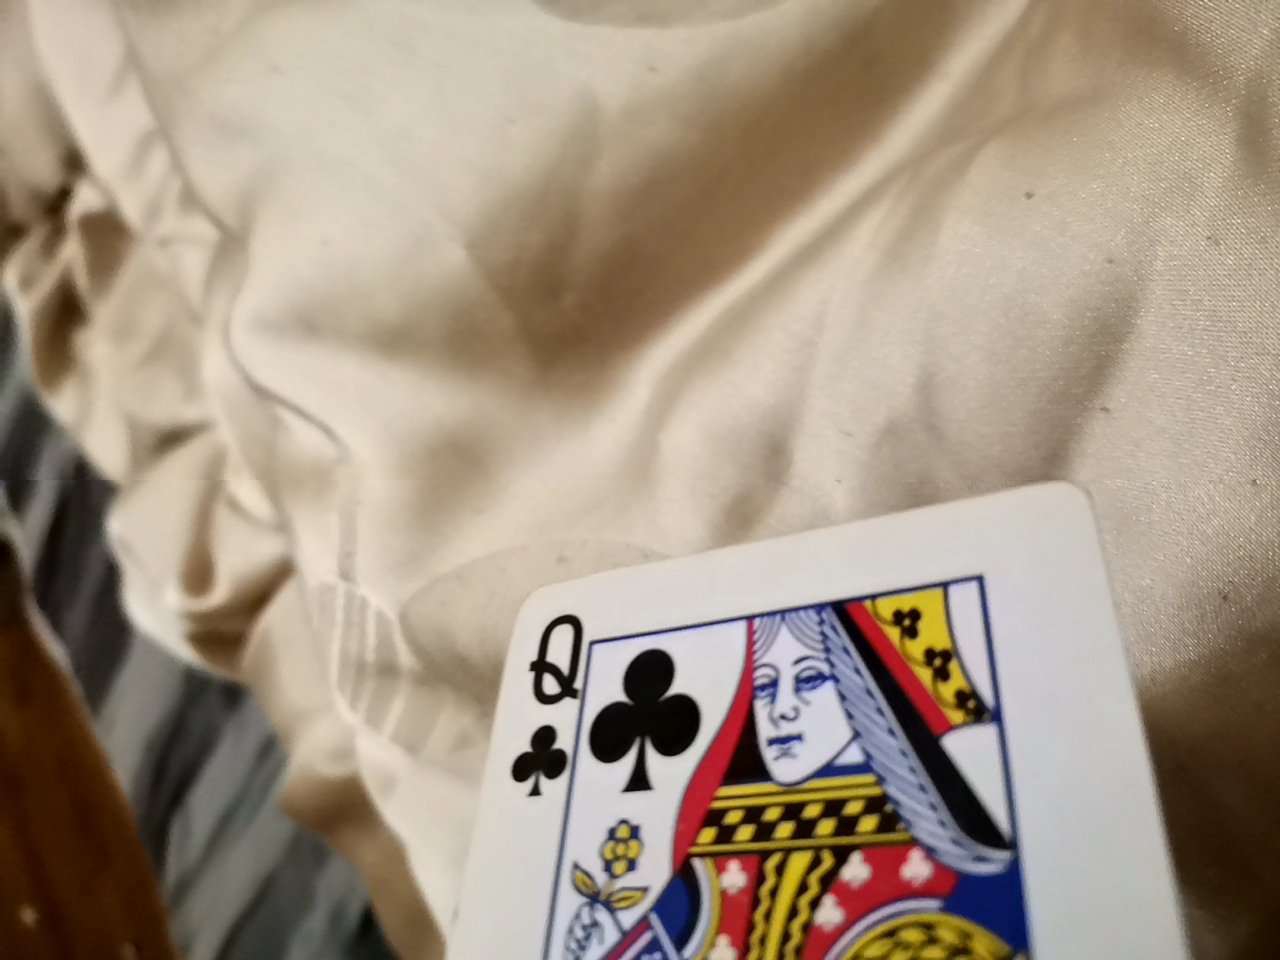mh q: (419, 474, 1219, 956)
